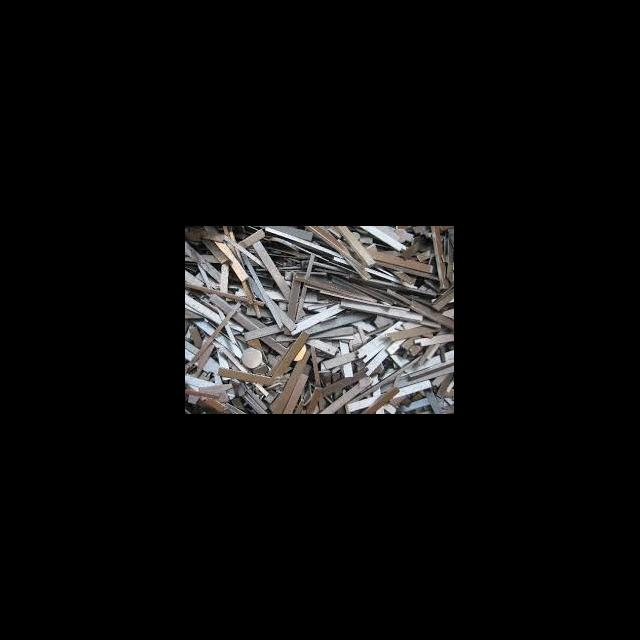metal: (197, 288, 290, 361), (352, 312, 412, 379), (192, 228, 252, 285), (264, 325, 310, 397), (280, 249, 316, 338), (334, 292, 424, 325), (368, 246, 438, 281), (215, 360, 278, 392), (236, 344, 266, 372)
